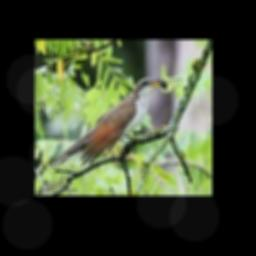Cuckoo: (49, 78, 161, 169)
